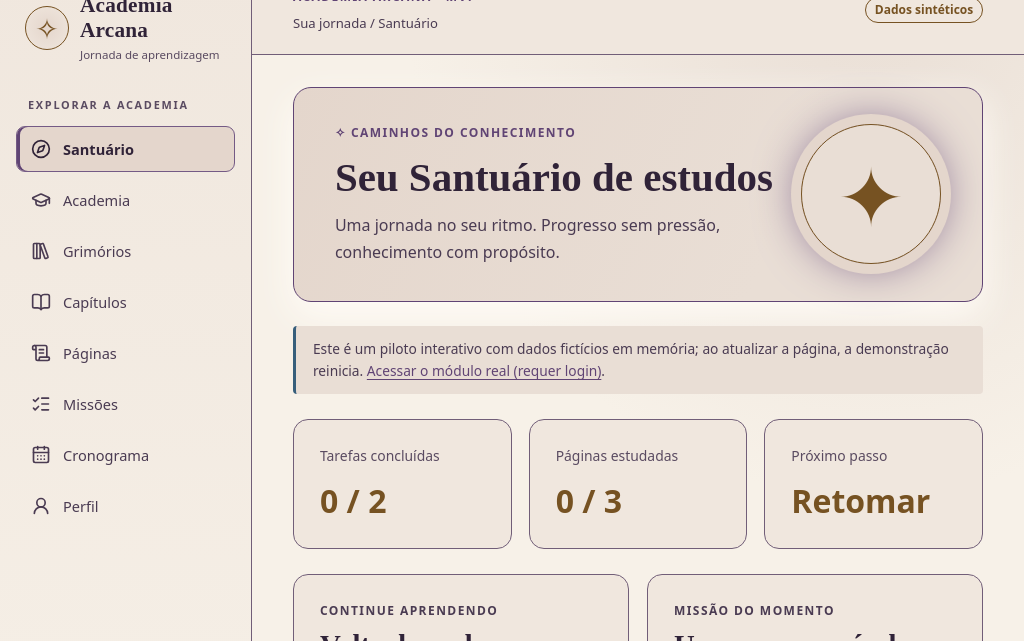
Test case: MVP synthetic journey pilot › completes pages and reflects verified local progress
What coordinates should you click on to do the following:
click the button "Páginas"
I would click on:
 (126, 353)
Its box is x1=16 y1=330 x2=235 y2=376.
(page scrolled)
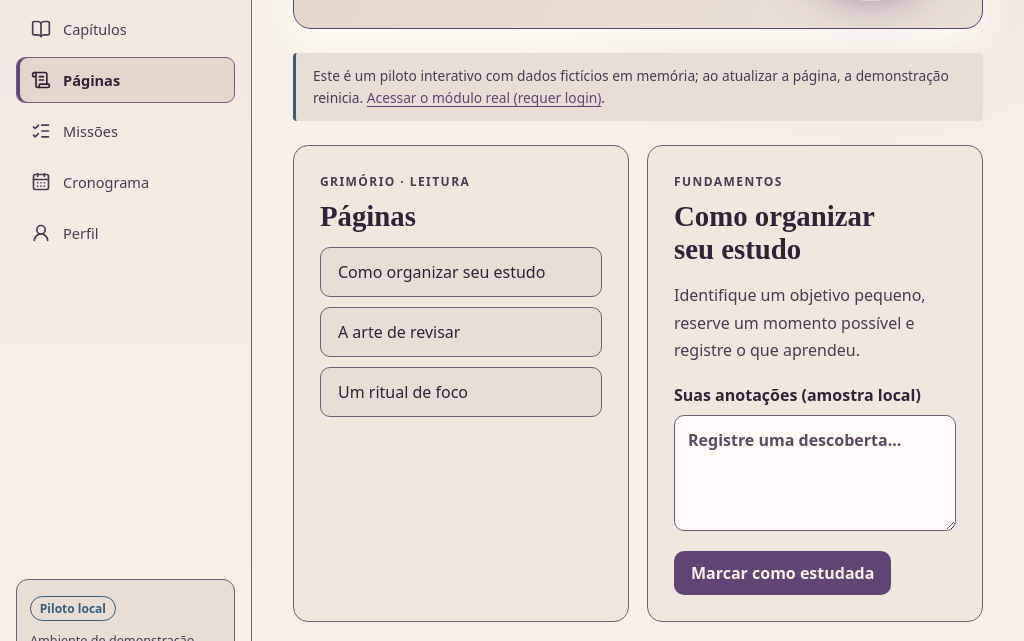
What coordinates should you click on to do the following:
click the button "Marcar como estudada"
I would click on:
 (783, 573)
Its box is x1=674 y1=551 x2=891 y2=595.
(page scrolled)
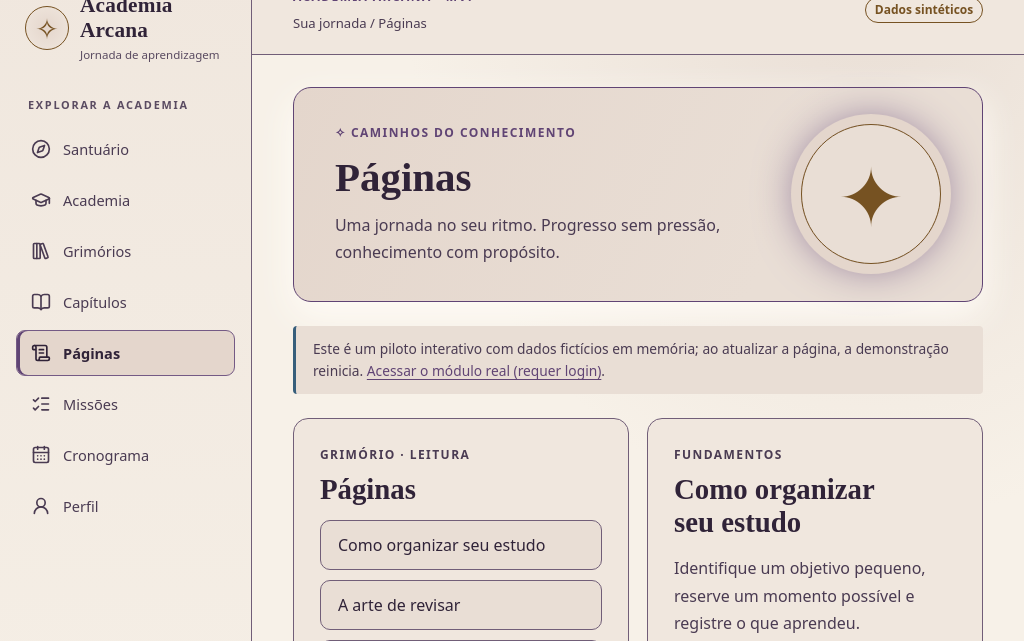
What coordinates should you click on to do the following:
click the button "Santuário"
I would click on:
 (126, 149)
Its box is x1=16 y1=126 x2=235 y2=172.
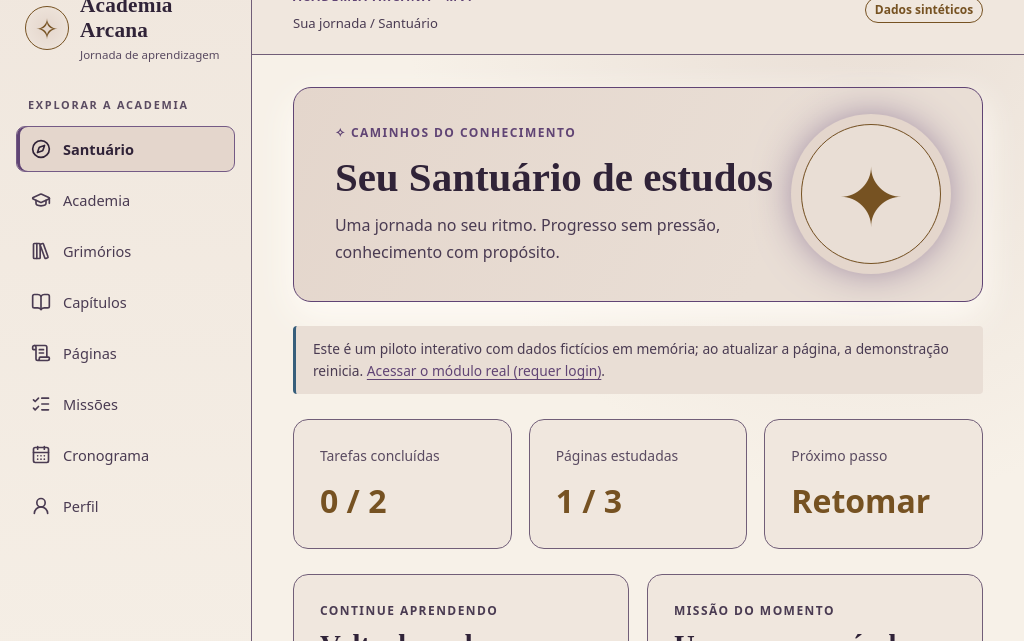
Expected: the text "1 / 3" is shown, x1=556 y1=479 x2=622 y2=522
